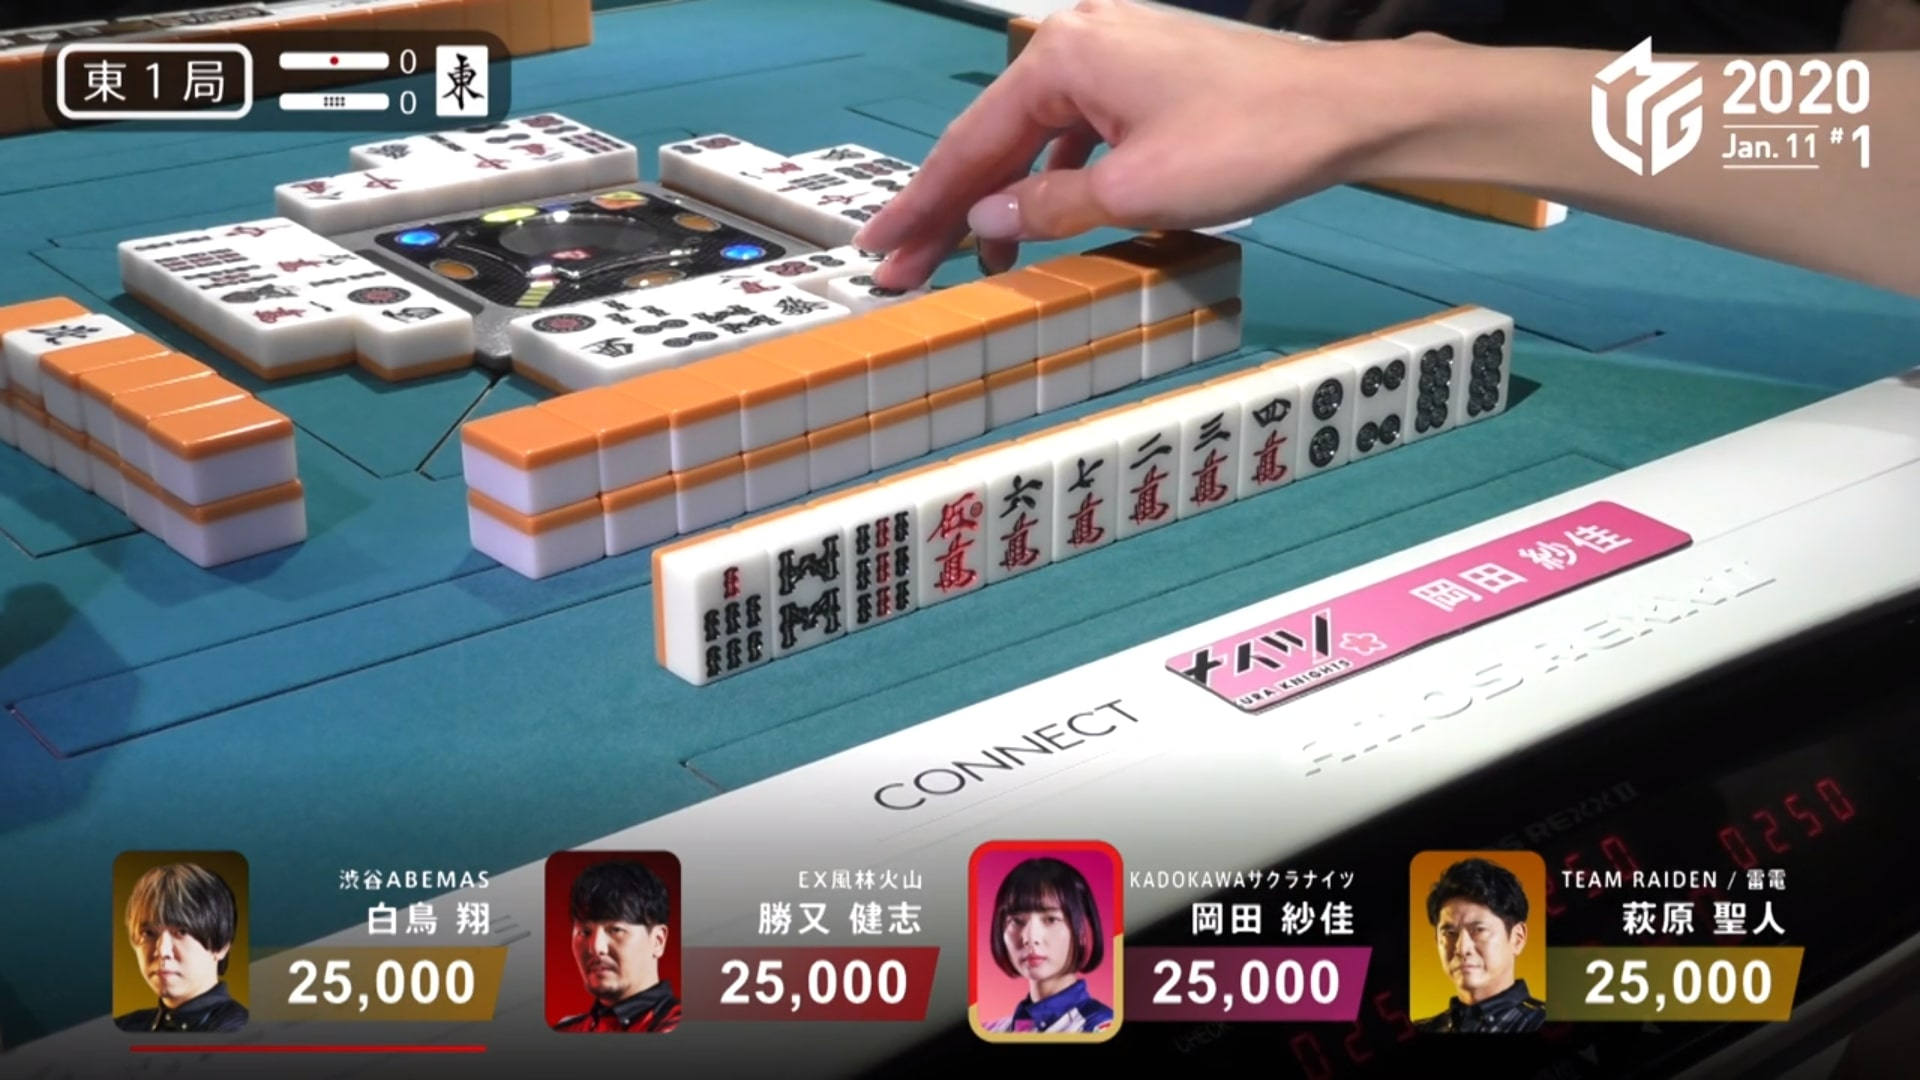2m: (1122, 427, 1184, 533)
2p: (1302, 373, 1353, 469)
3m: (1182, 406, 1232, 512)
4m: (1237, 386, 1303, 492)
4p: (1352, 348, 1404, 459)
5mr: (922, 489, 992, 607)
6m: (989, 467, 1048, 579)
6p: (1462, 323, 1513, 421), (1414, 345, 1452, 433)
7m: (1054, 439, 1116, 550)
7s: (688, 563, 767, 679)
8s: (771, 529, 843, 647)
9s: (841, 506, 918, 628)
hand_ton_1: (44, 36, 260, 124)
round_0: (276, 84, 433, 123)
team_kadokawa: (1164, 583, 1447, 723)
